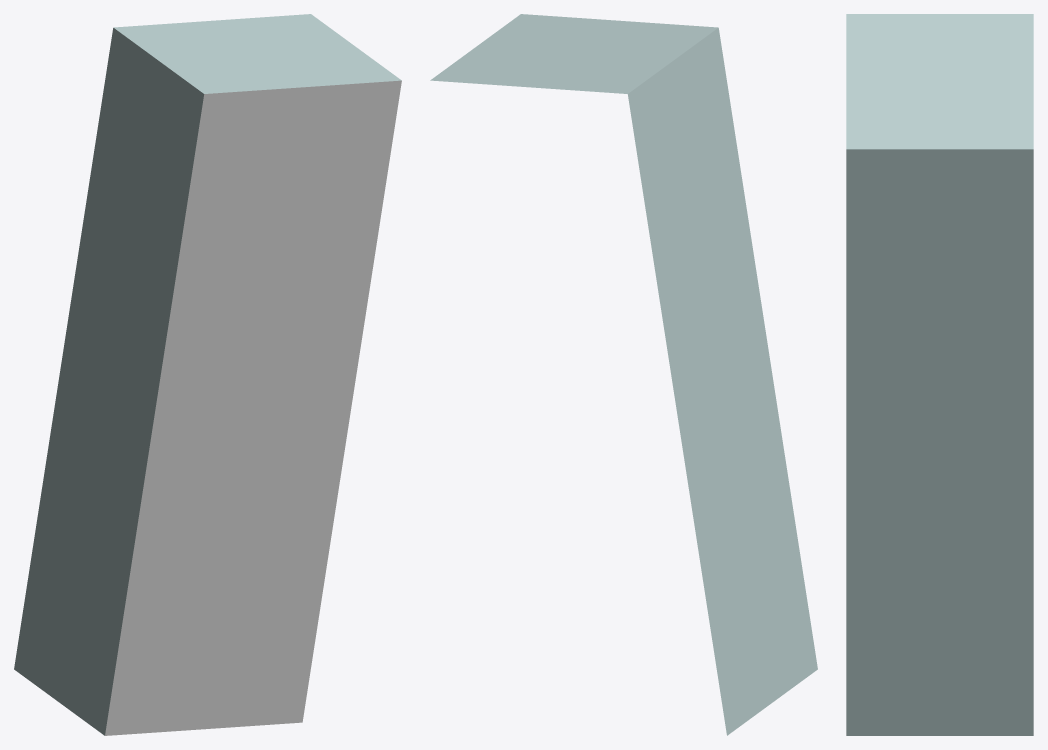
3 renders of one model, left to right at view 1: azimuth 30°, elevation 25°; view 2: azimuth 150°, elevation 25°; view 3: azimuth 270°, elevation 25°, orthographic. The views are drawn at different scales.
Parts seen in each view (by area): view 1: 0_2_3_2_3_0_2_0_0; view 2: 0_2_3_2_3_0_2_0_0; view 3: 0_2_3_2_3_0_2_0_0.
Boxes of the visible parts, left/top/right/bottom form: 0_2_3_2_3_0_2_0_0: left=14, top=14, right=401, bottom=735; 0_2_3_2_3_0_2_0_0: left=430, top=14, right=817, bottom=735; 0_2_3_2_3_0_2_0_0: left=846, top=14, right=1033, bottom=735.
Size of the model in its own units: 5.66 by 11.87 by 3.
